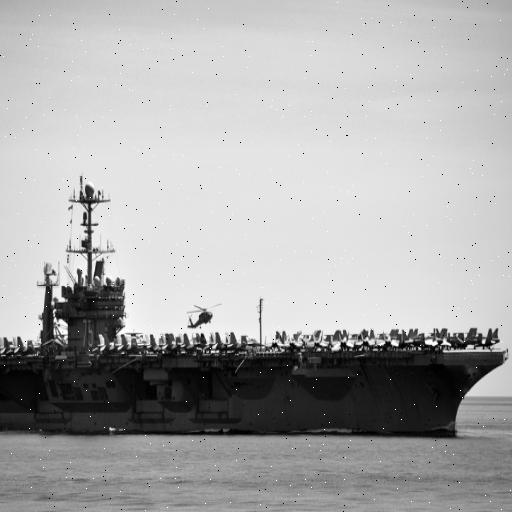Portanaves: (1, 172, 511, 439)
